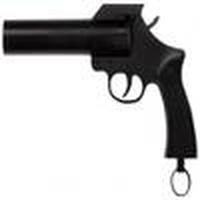gun: (5, 4, 192, 200)
